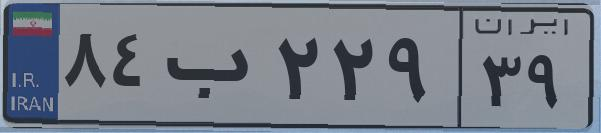2: (270, 28, 330, 110), (330, 28, 385, 110)
3: (475, 38, 525, 113)
4: (110, 28, 158, 98)
8: (57, 26, 110, 100)
9: (385, 28, 445, 110), (525, 38, 570, 115)
ب: (158, 20, 270, 120)
